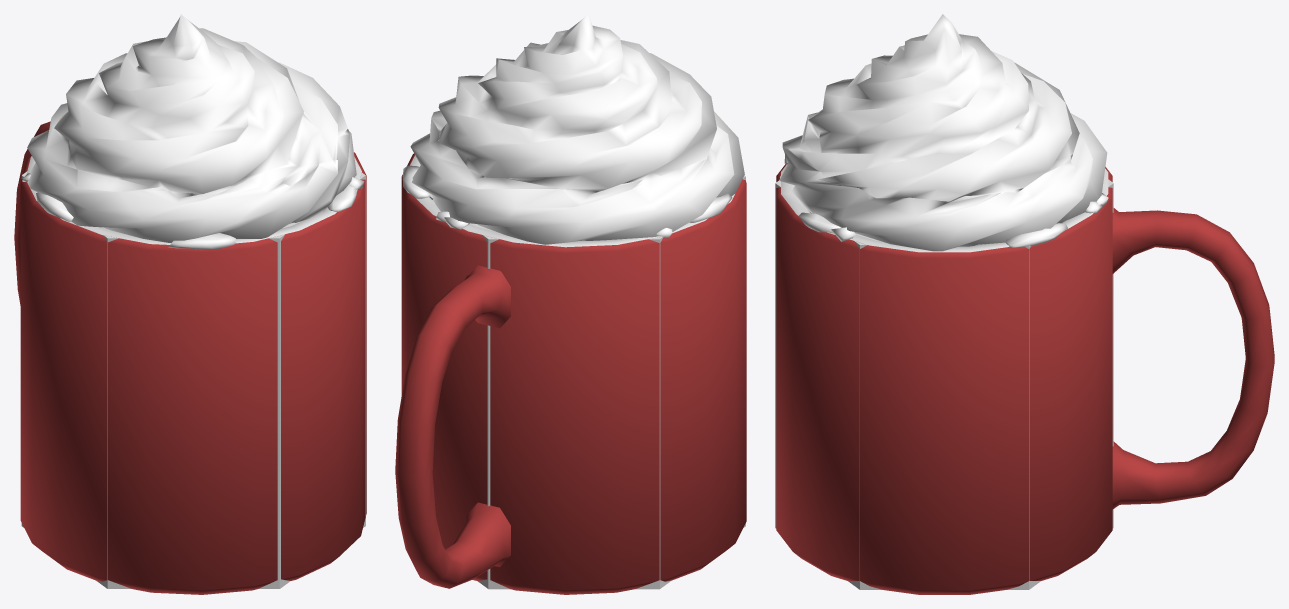
The model's file is CupMug.fbx.
3 views of the same model, side by side, from view 1: azimuth 30°, elevation 25°; view 2: azimuth 150°, elevation 25°; view 3: azimuth 270°, elevation 25° (orthographic).
Visible parts, largest first — view 1: CupMug, Cream, Col; view 2: CupMug, Cream, Col; view 3: CupMug, Cream, Col.
Part boxes in pixels (left/top/right/bottom): CupMug: left=14, top=121, right=366, bottom=594; Cream: left=22, top=14, right=364, bottom=249; Col: left=21, top=171, right=365, bottom=588; CupMug: left=395, top=153, right=746, bottom=594; Cream: left=403, top=14, right=744, bottom=244; Col: left=402, top=175, right=745, bottom=589; CupMug: left=776, top=164, right=1274, bottom=594; Cream: left=779, top=14, right=1108, bottom=251; Col: left=775, top=179, right=1113, bottom=589.
Size of the model in its own units: 0.0774 by 0.1149 by 0.1289.
